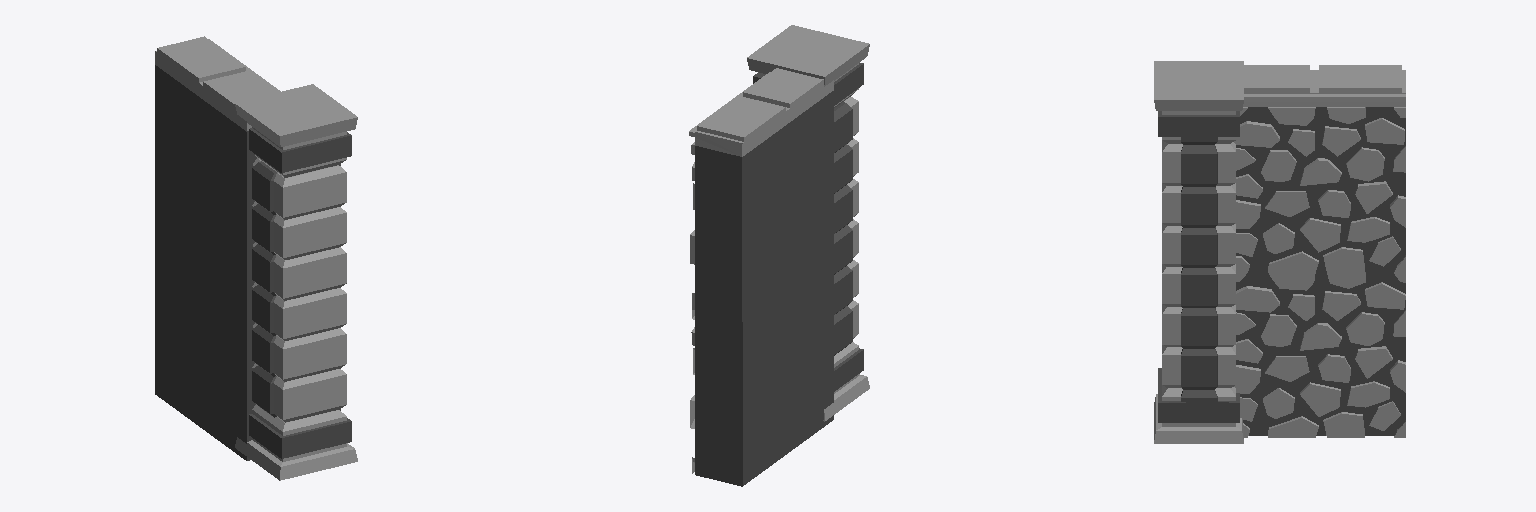
Rendered from ColumnWall.obj.
The picture shows the model from 3 angles: view 1: azimuth 30°, elevation 25°; view 2: azimuth 150°, elevation 25°; view 3: azimuth 270°, elevation 25°; orthographic projection.
Parts seen in each view (by area): view 1: ColumnWall.049_Cube.1536; view 2: ColumnWall.049_Cube.1536; view 3: ColumnWall.049_Cube.1536.
Boxes of the visible parts, x1=… form: ColumnWall.049_Cube.1536: x1=155, y1=36, x2=357, y2=480; ColumnWall.049_Cube.1536: x1=689, y1=25, x2=869, y2=486; ColumnWall.049_Cube.1536: x1=1154, y1=61, x2=1405, y2=443.
Size of the model in its own units: 1.01 by 4.34 by 2.83.